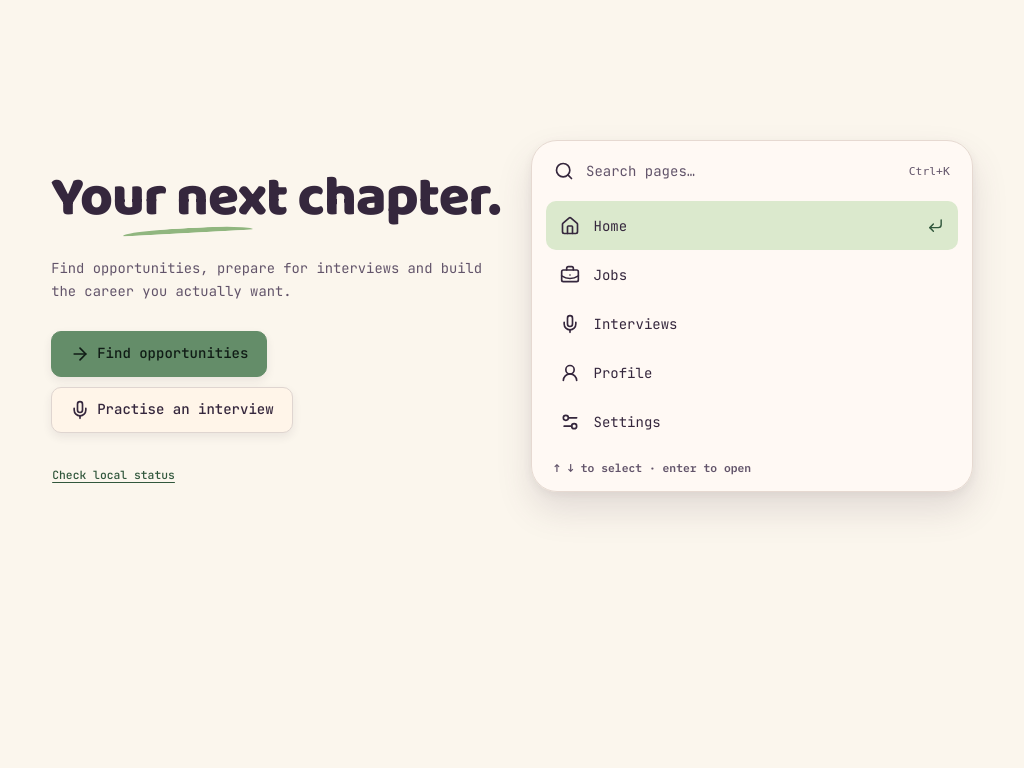
it: Interviews page in the shell › opens from the Home call to action
This screenshot has width=1024, height=768.
Click the button "Practise an interview" at (172, 410), box [51,387,293,433]
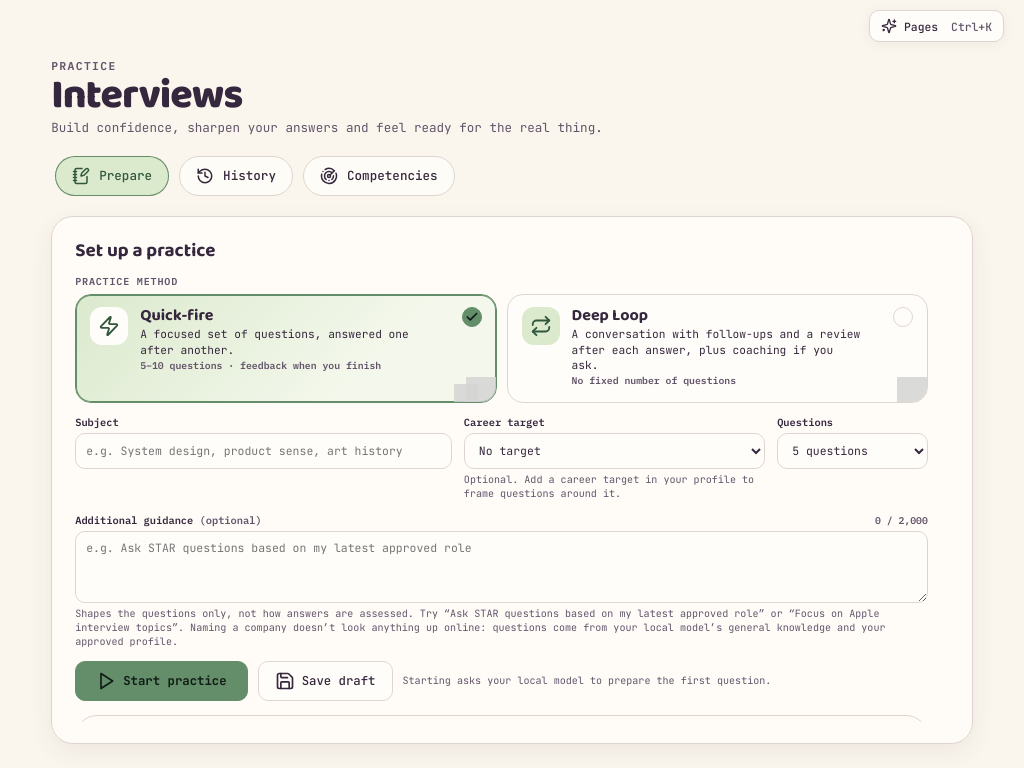
Expected: the tab "Prepare" is shown, [55,156,169,196]
